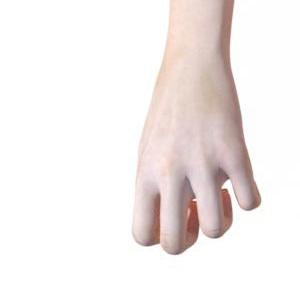rock: (132, 0, 260, 255)
